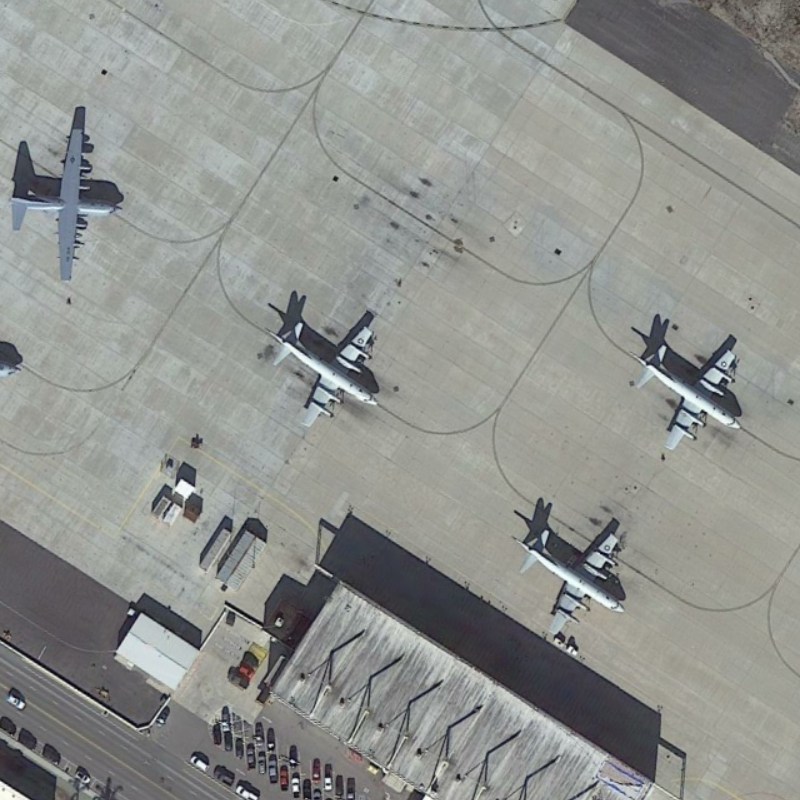A2: (6, 123, 126, 290)
A9: (506, 520, 634, 645), (257, 314, 389, 429), (626, 332, 746, 451)
